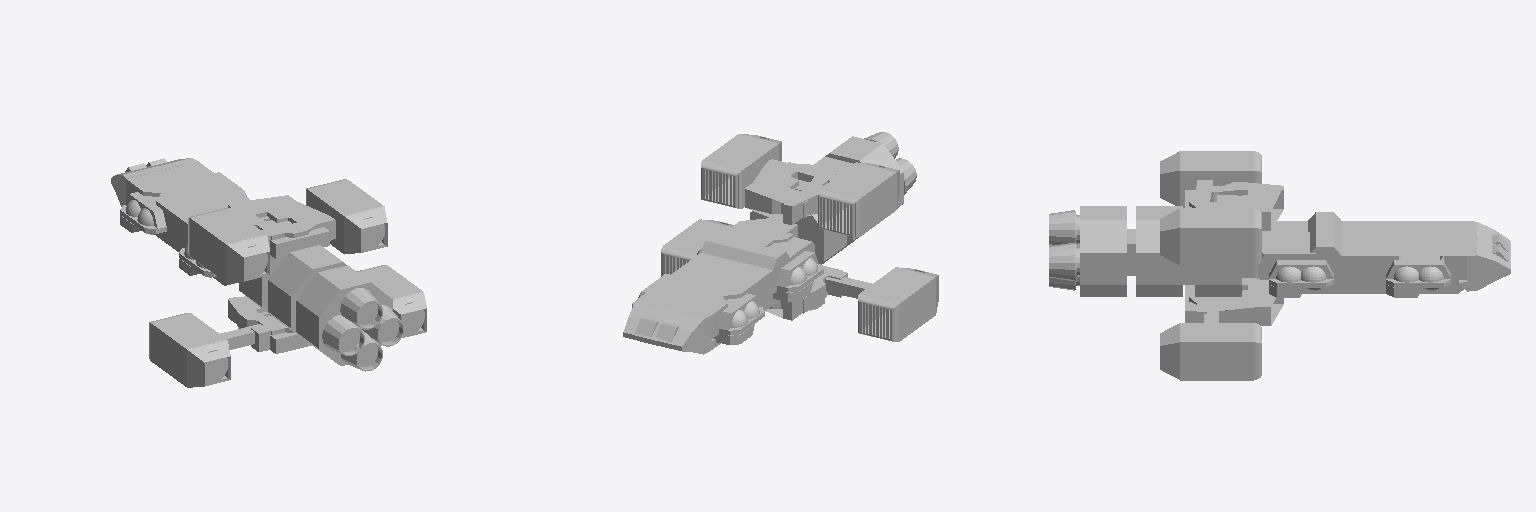
File: destroyer, human.obj
The picture shows the model from 3 angles: view 1: azimuth 30°, elevation 25°; view 2: azimuth 150°, elevation 25°; view 3: azimuth 270°, elevation 25°; orthographic projection.
Size of the model in its own units: 420 by 227 by 710.